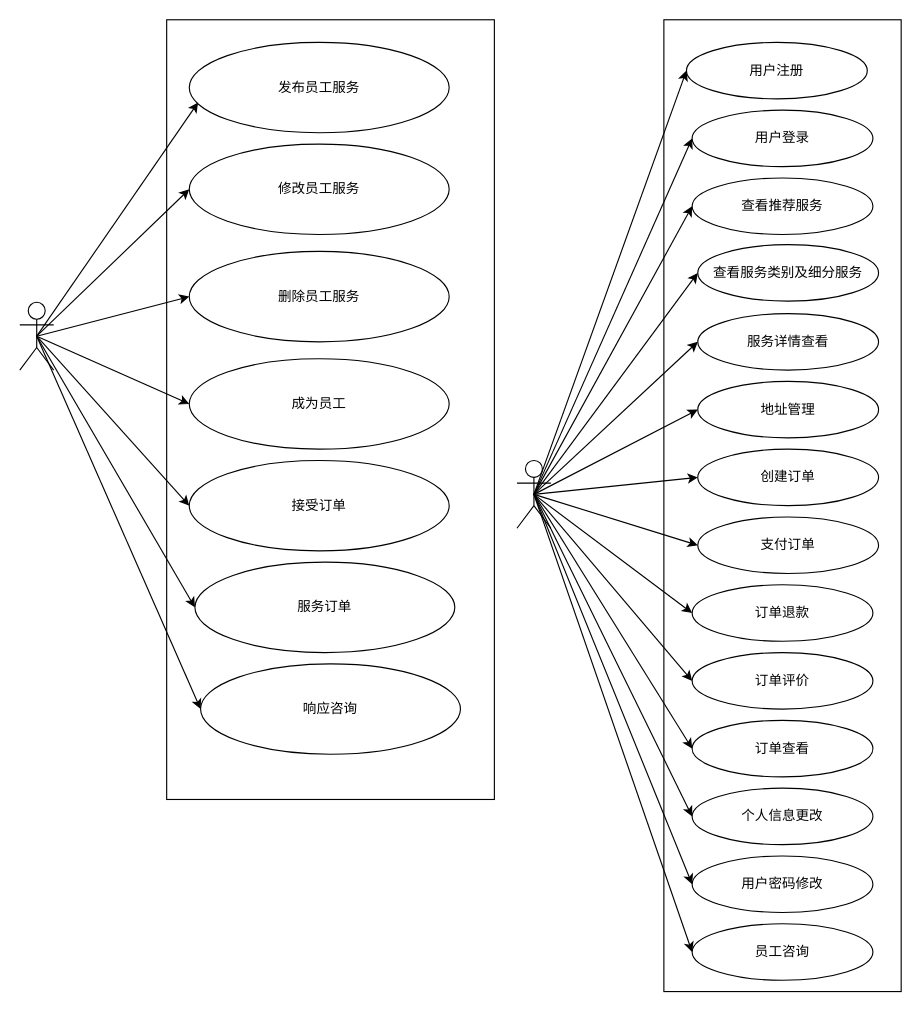
This 921x1011 diagram has some shape labels left out. The shapes that lost their labels are listed below. From the top down, each one's centre as x and y in pixels, then its label:
point (36, 335): 员工
point (533, 493): 用户
